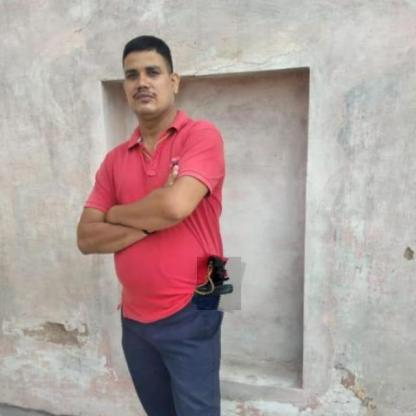handgun: (194, 254, 244, 312)
